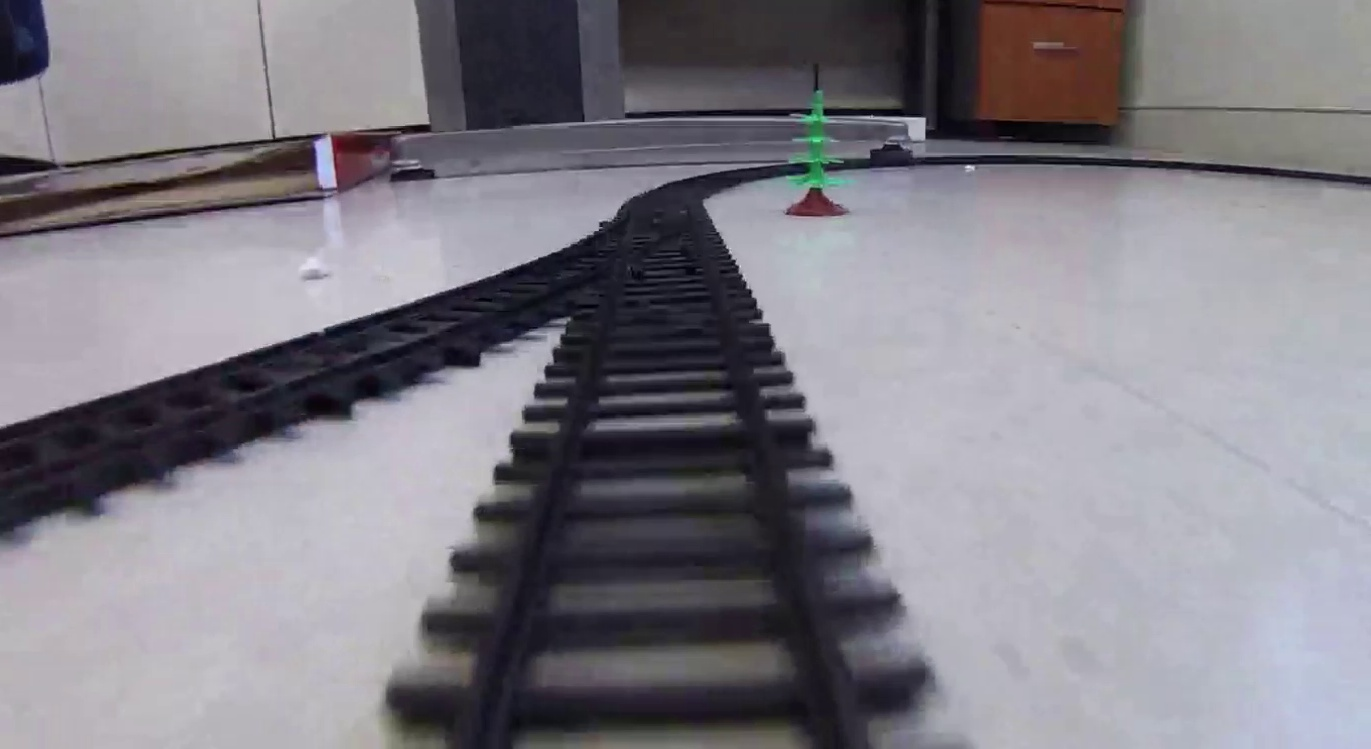tree: (777, 87, 856, 216)
